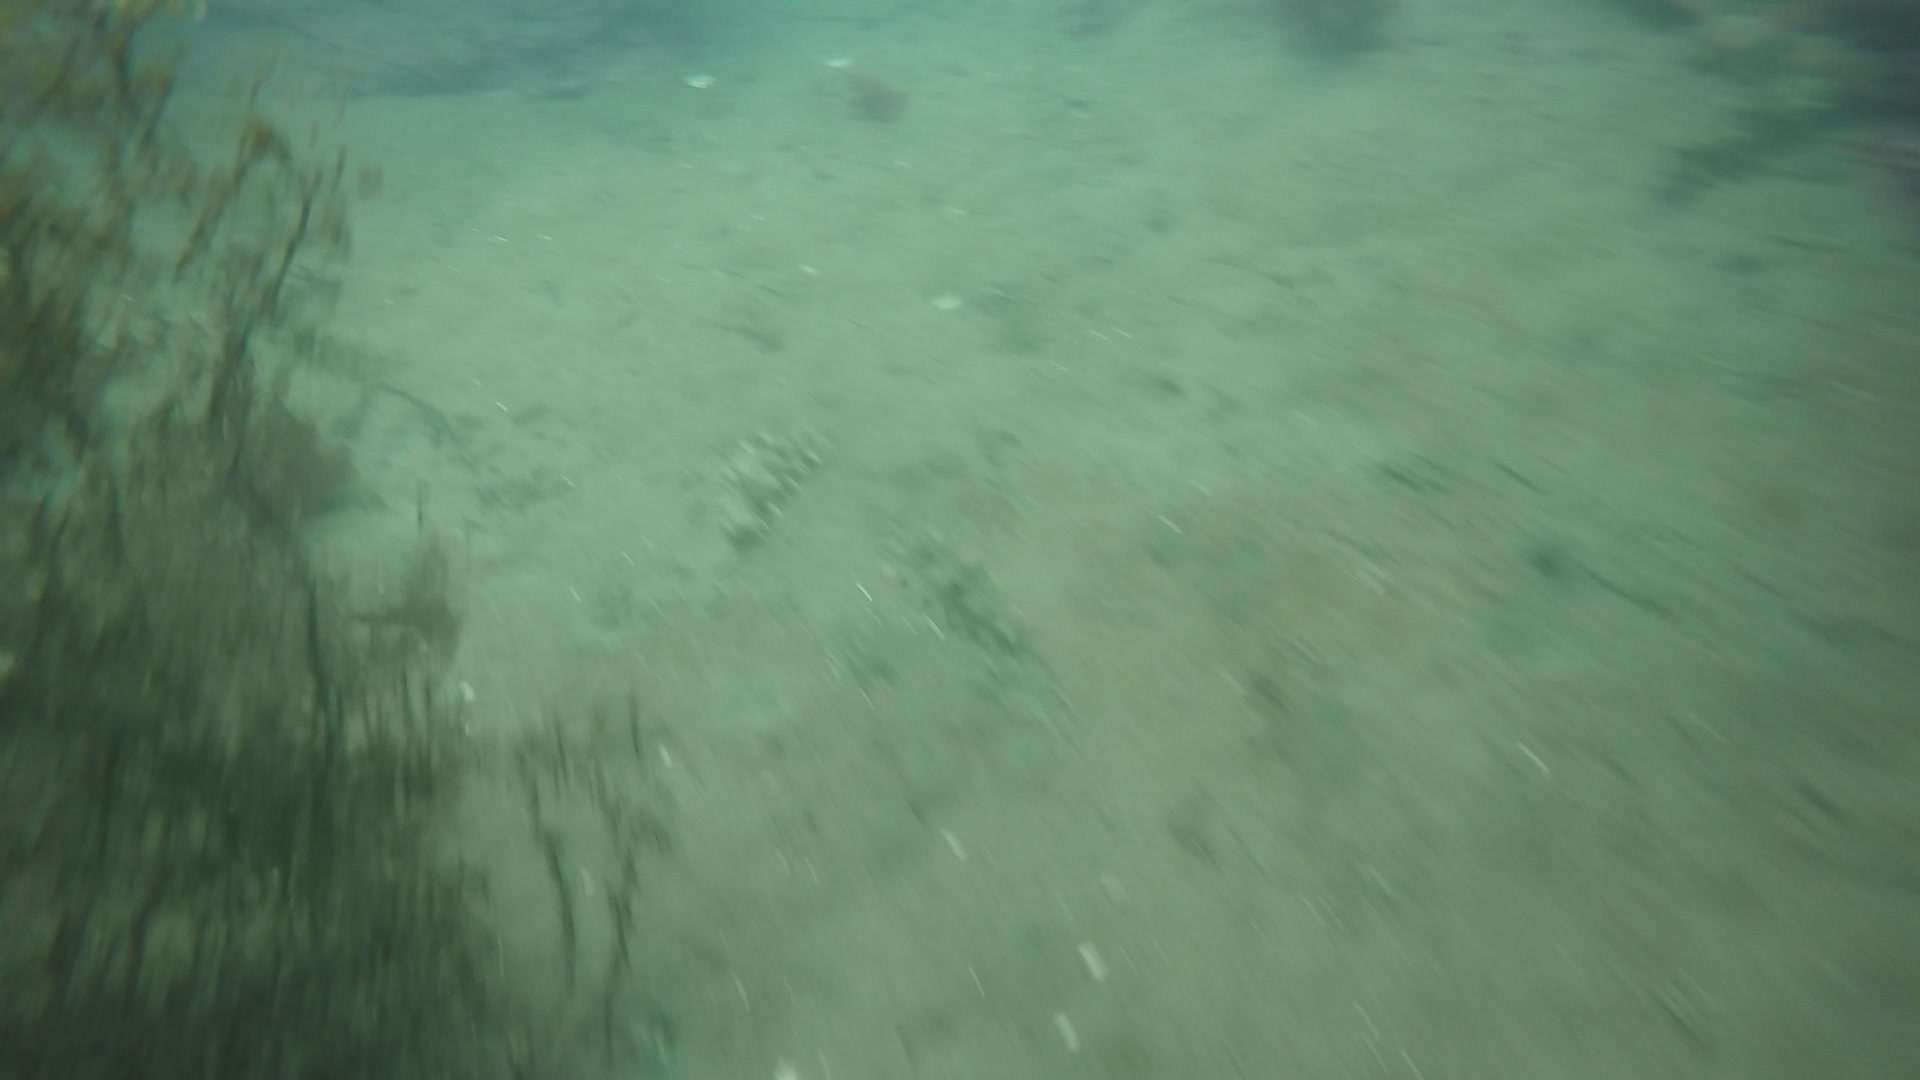holothurian: (872, 521, 1023, 651), (712, 409, 833, 538)
